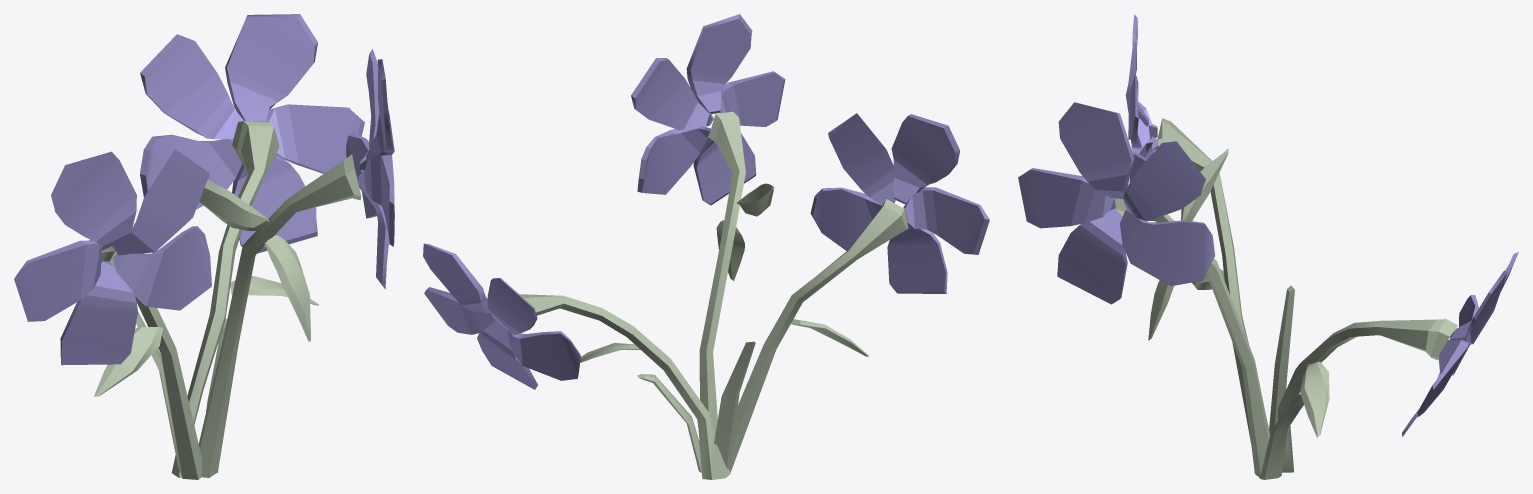
Rendered from Periwinkle.fbx.
3 views of the same model, side by side, from view 1: azimuth 30°, elevation 25°; view 2: azimuth 150°, elevation 25°; view 3: azimuth 270°, elevation 25° (orthographic). The views are drawn at different scales.
Visible parts, largest first — view 1: PeriwinklePetal, PeriwinkleStem; view 2: PeriwinklePetal, PeriwinkleStem; view 3: PeriwinklePetal, PeriwinkleStem.
Boxes of the visible parts, x1,y1,x2,y2 form: PeriwinklePetal: [14, 14, 394, 365]; PeriwinkleStem: [89, 121, 361, 479]; PeriwinklePetal: [423, 14, 989, 389]; PeriwinkleStem: [519, 111, 908, 479]; PeriwinklePetal: [1018, 14, 1518, 436]; PeriwinkleStem: [1114, 118, 1457, 479].
Size of the model in its own units: 16.97 by 14.22 by 15.96.
